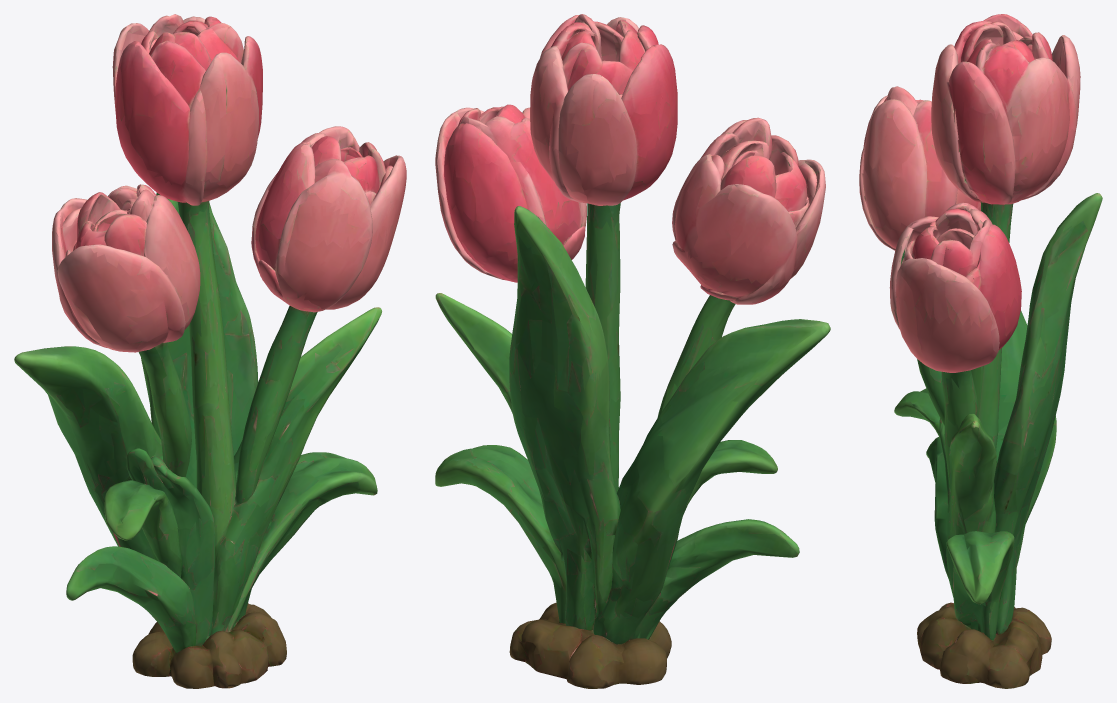
File: upm_muprjtph2kb.glb
3 renders of one model, left to right at view 1: azimuth 30°, elevation 25°; view 2: azimuth 150°, elevation 25°; view 3: azimuth 270°, elevation 25°, orthographic. The views are drawn at different scales.
Bounding box in the file's own units: 1.21 × 1.9 × 0.6806.
1 material, 1 textured.
